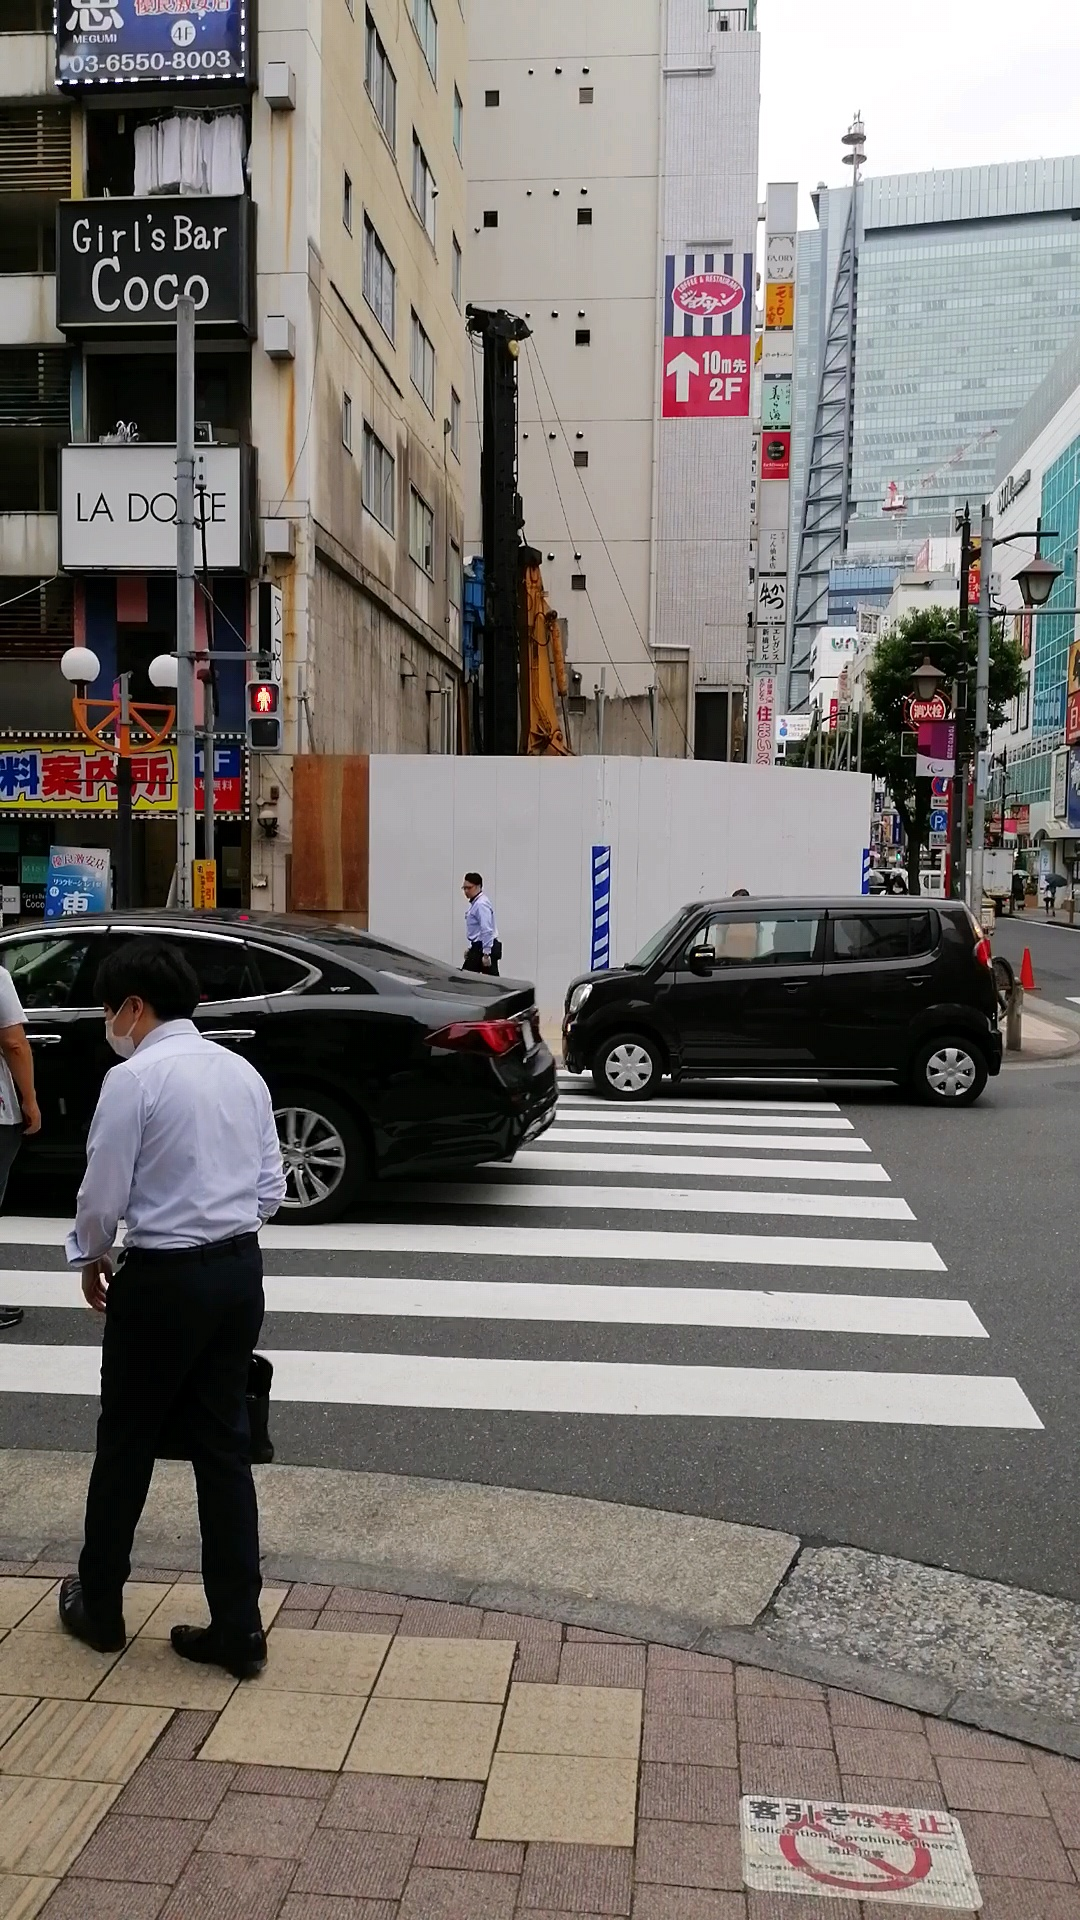red: (247, 679, 280, 752)
